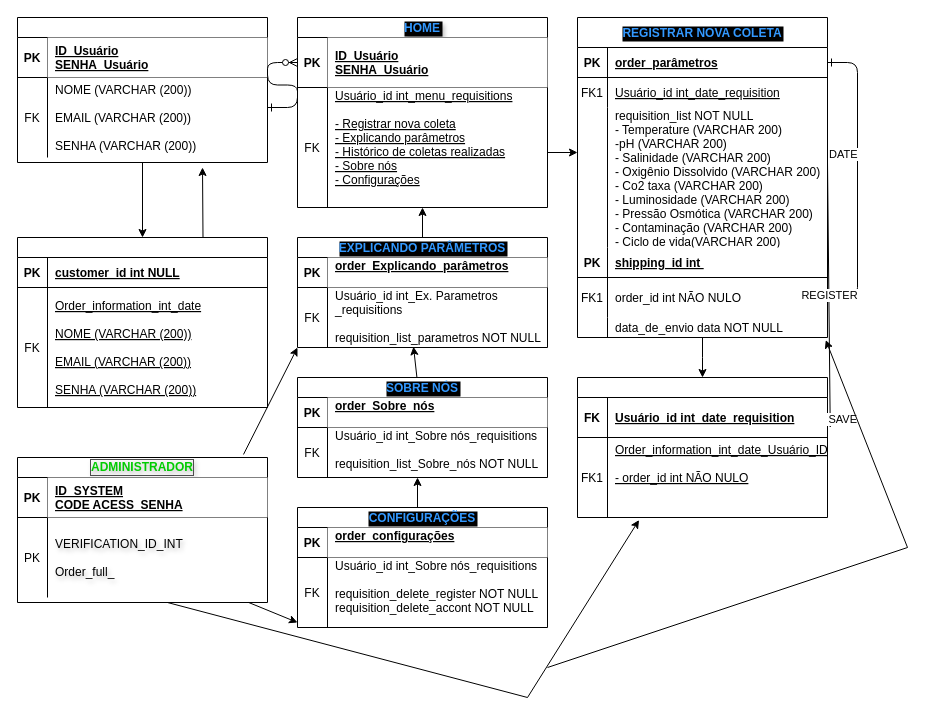
The diagram is 933 pixels wide and 723 high, and some of its shapes have lost their labels. Each missing label, with the box of its shape:
CRIAR CONTA: (16, 236, 268, 408)
HISTÓRICO DE COLETAS REALIZADAS: (576, 376, 828, 518)
LOGIN USUÁRIO: (16, 16, 268, 162)
